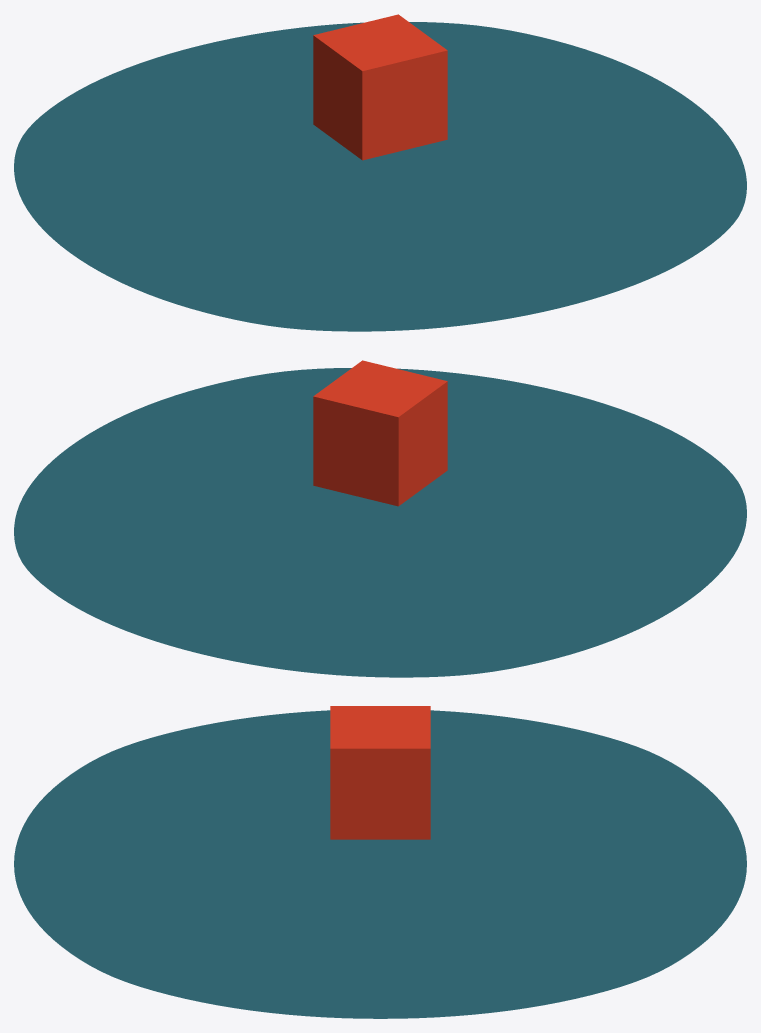
File: home.glb
3 views of the same model, one above another, from view 1: azimuth 30°, elevation 25°; view 2: azimuth 150°, elevation 25°; view 3: azimuth 270°, elevation 25° (orthographic). The views are drawn at different scales.
Visible parts, largest first — view 1: Plane, Cube; view 2: Plane, Cube; view 3: Plane, Cube.
Boxes of the visible parts, bbox=[...] form: Plane: bbox=[14, 22, 746, 331]; Cube: bbox=[313, 14, 447, 160]; Plane: bbox=[14, 368, 746, 677]; Cube: bbox=[313, 360, 447, 506]; Plane: bbox=[14, 710, 746, 1018]; Cube: bbox=[330, 706, 430, 839].
Size of the model in its own units: 14.58 by 3 by 14.58.
